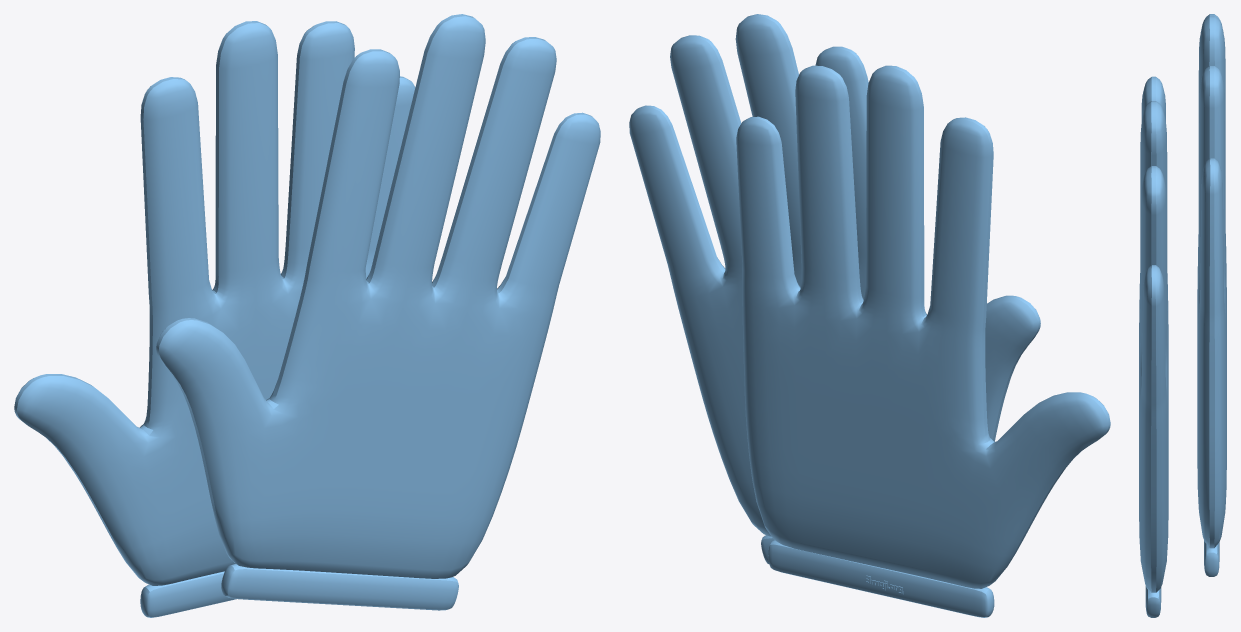
Rendered from gloves.fbx.
3 renders of one model, left to right at view 1: azimuth 30°, elevation 25°; view 2: azimuth 150°, elevation 25°; view 3: azimuth 270°, elevation 25°, orthographic. The views are drawn at different scales.
Parts seen in each view (by area): view 1: Cube.6107; view 2: Cube.6107; view 3: Cube.6107.
Boxes of the visible parts, bbox=[...] form: Cube.6107: bbox=[14, 14, 600, 617]; Cube.6107: bbox=[629, 14, 1110, 617]; Cube.6107: bbox=[1139, 14, 1226, 617].
Size of the model in its own units: 197 by 206 by 31.02.
Materials: 1 (1 with a texture image).
